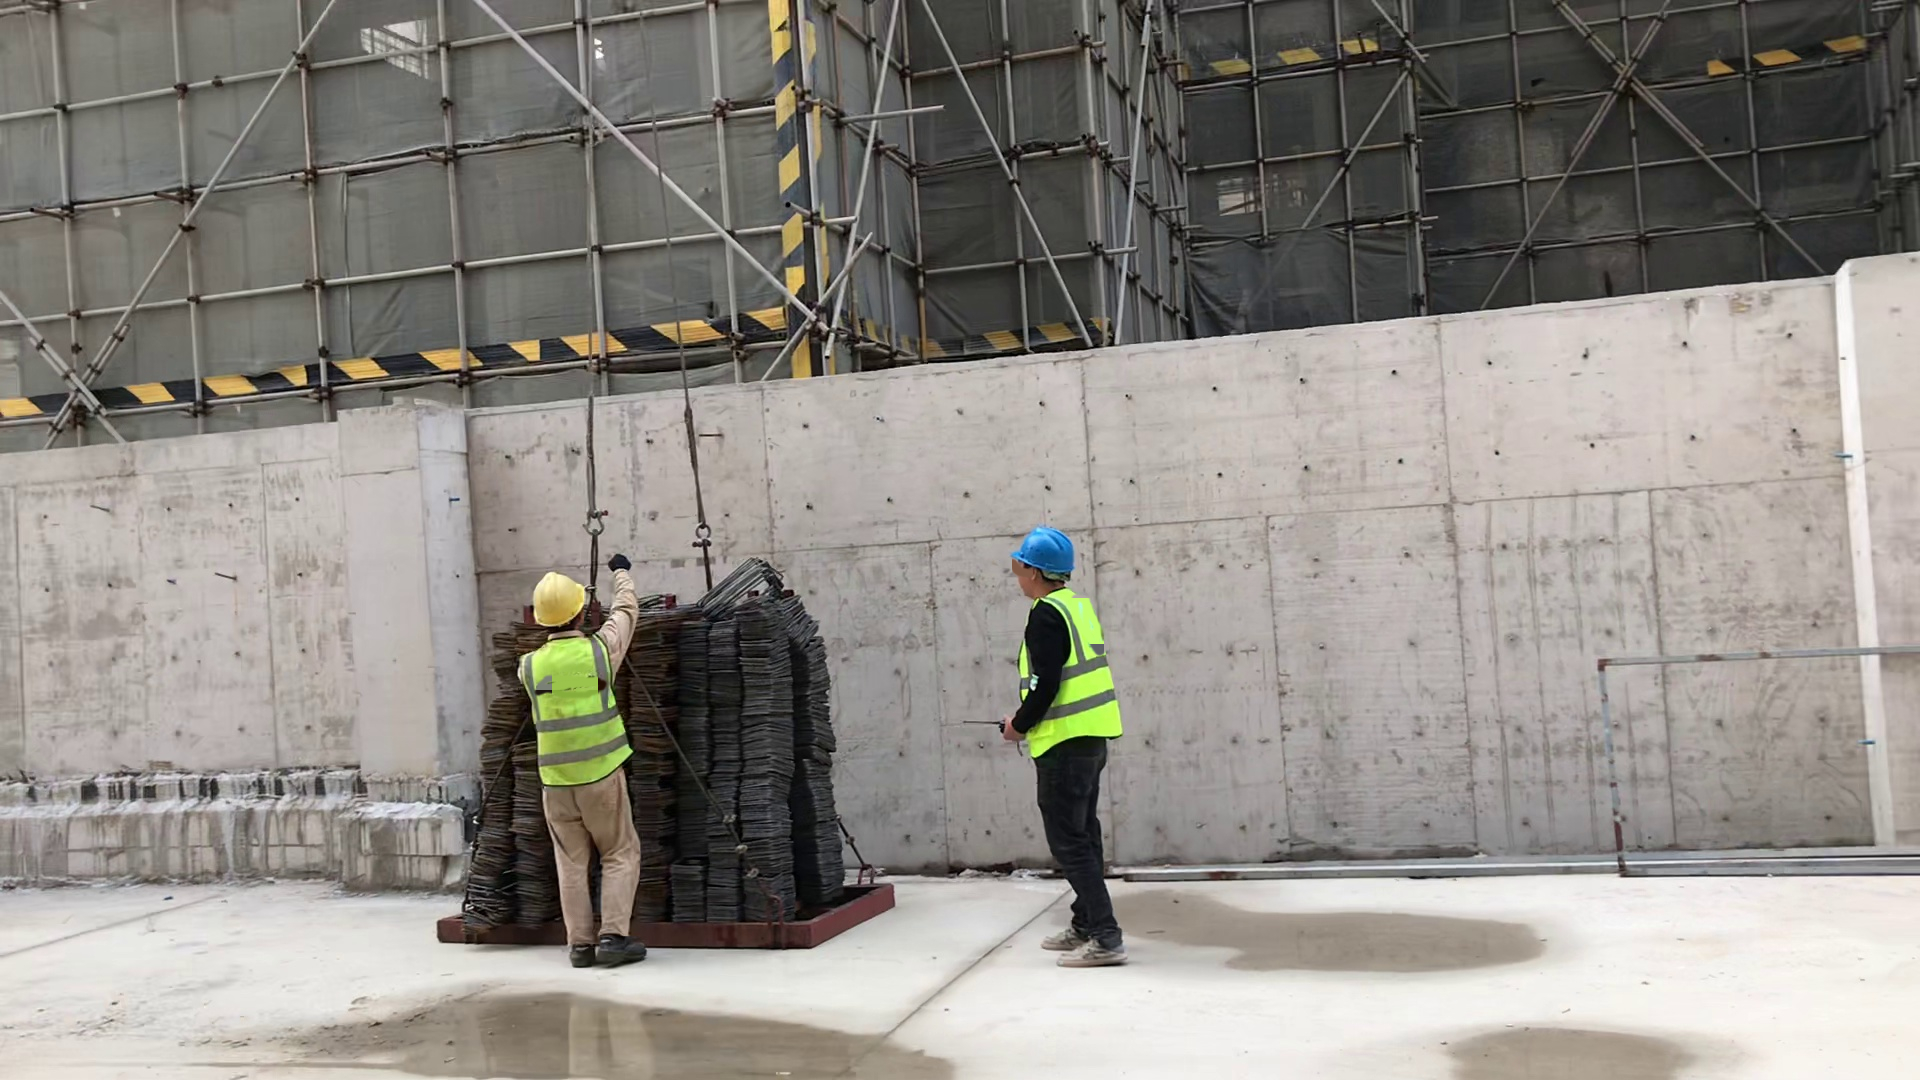helmet: (1003, 521, 1085, 591), (524, 564, 588, 617)
person: (1006, 506, 1136, 971), (518, 554, 648, 967)
vest: (1008, 592, 1135, 752), (521, 640, 646, 776)
